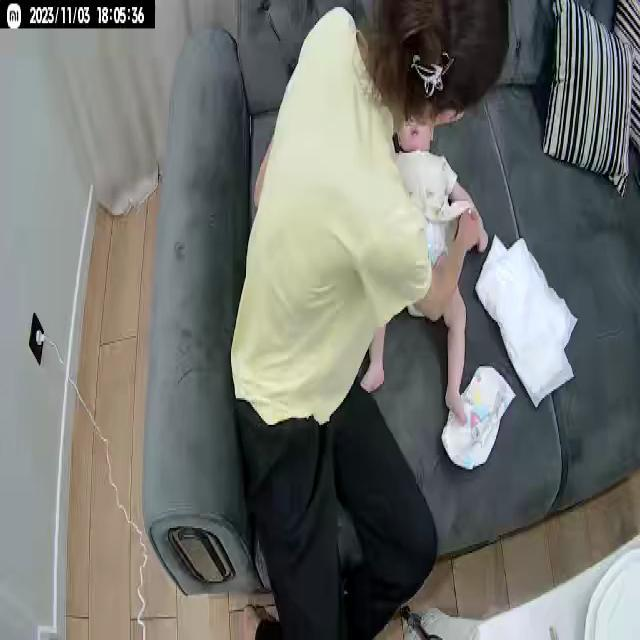baby: (364, 104, 486, 426)
